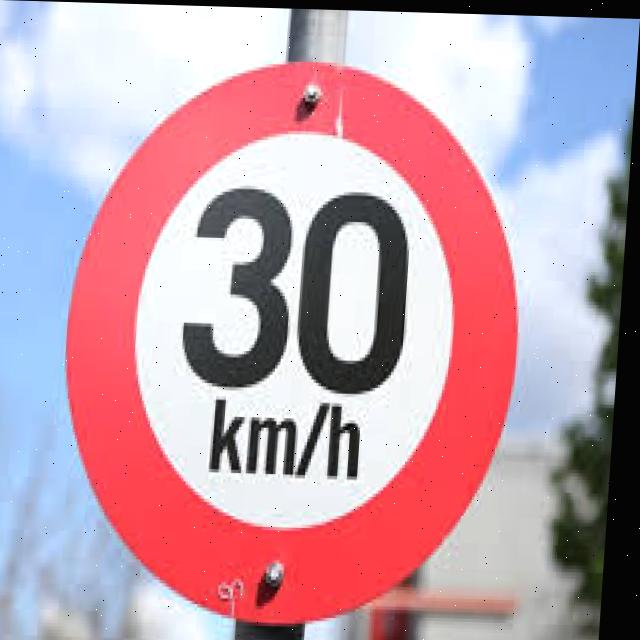Speed limit 30: (53, 49, 542, 630)
